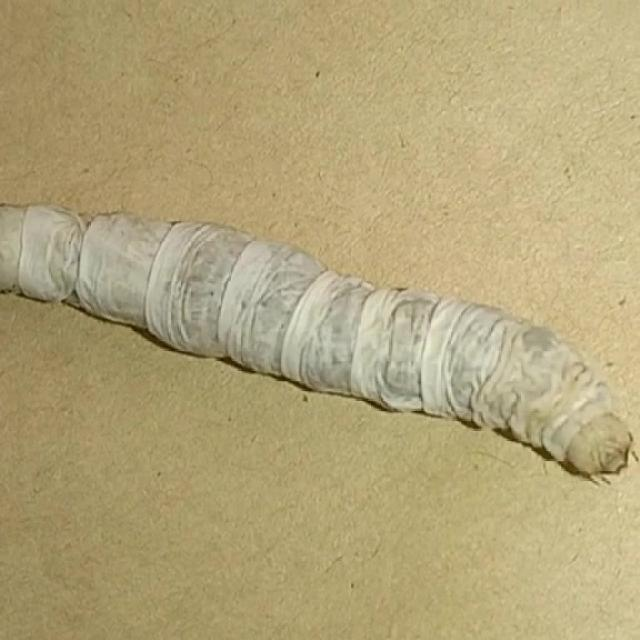Grasserie: (0, 125, 640, 506)
